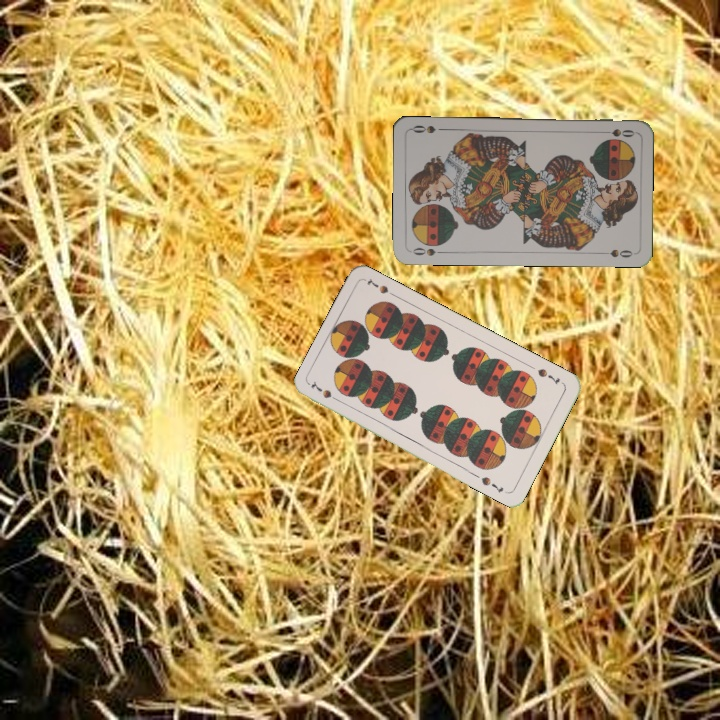S7: (306, 378, 344, 405), (533, 364, 563, 387)
SO: (597, 125, 637, 140), (407, 244, 447, 258)
